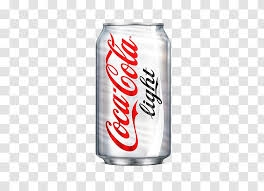can: (93, 22, 172, 168)
